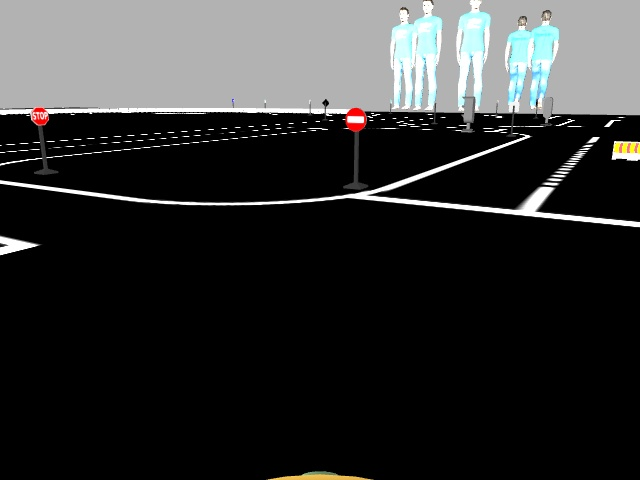ClosedRoadStand: (614, 141, 639, 159)
NoEntry: (343, 109, 366, 130)
Stop: (30, 107, 49, 126)
